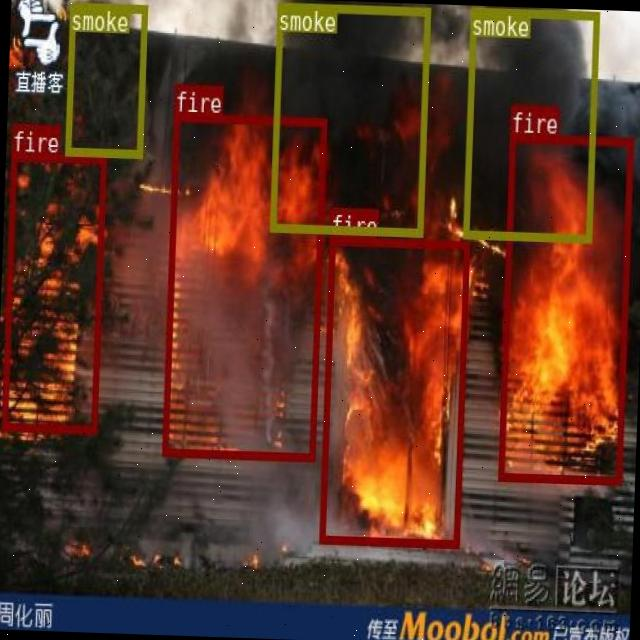fire: (161, 113, 325, 460), (497, 132, 632, 482), (318, 235, 468, 547), (0, 151, 105, 432)
smoke: (269, 2, 429, 235), (462, 6, 598, 240), (65, 1, 147, 157)
